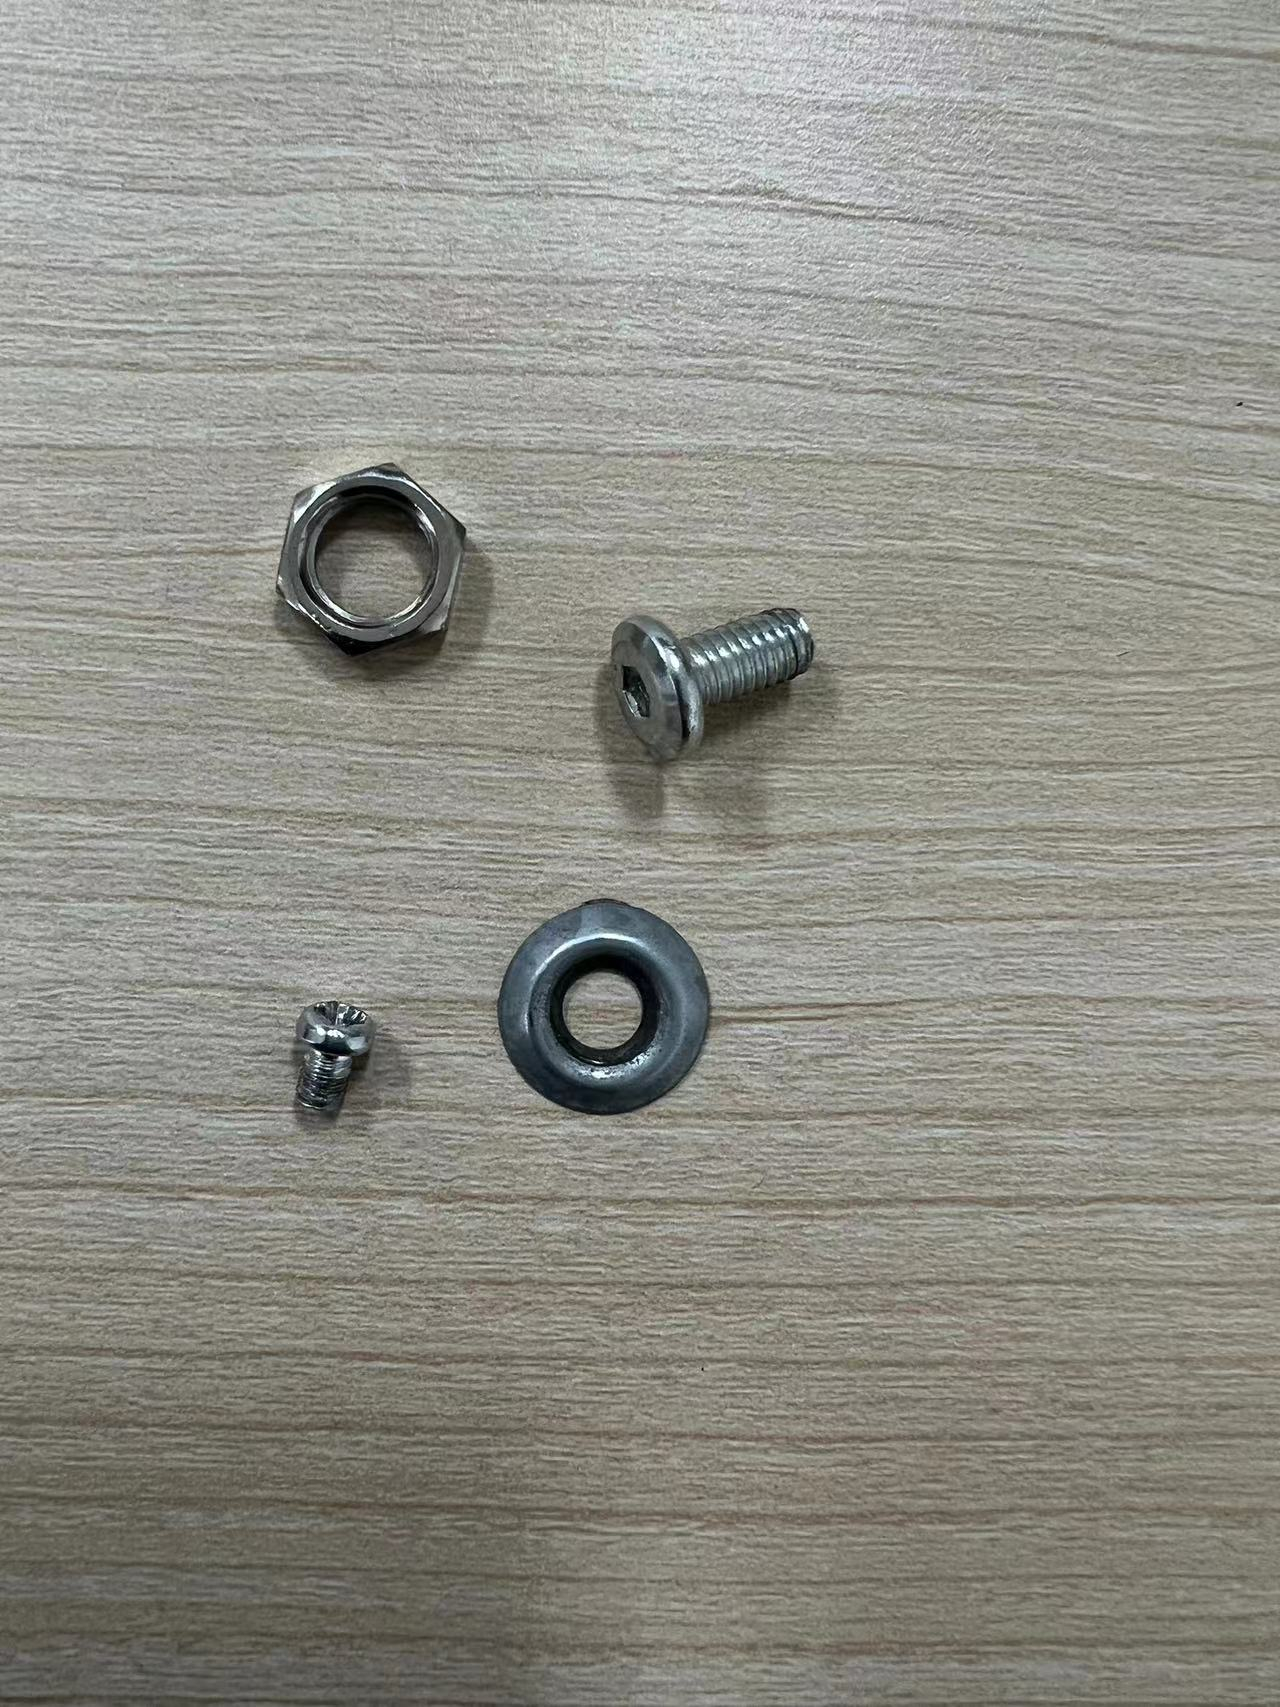Hexagon nut: (258, 444, 485, 687)
Round head screw: (582, 569, 838, 784), (262, 974, 403, 1147)
Spring washer: (480, 880, 733, 1116)
